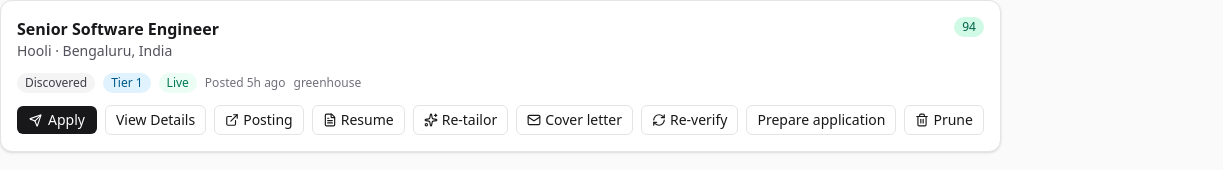
Test: Prepare application button › shows refusals from the API
Click the button "Prepare application" at coordinates (821, 120), box [746,105,896,135]
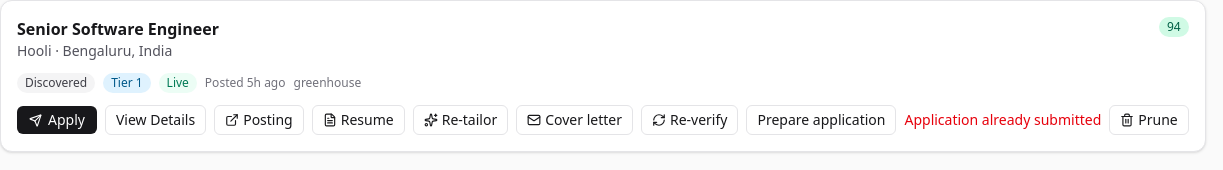
Now the message reads "Application already submitted", box [904,110,1101,129]
